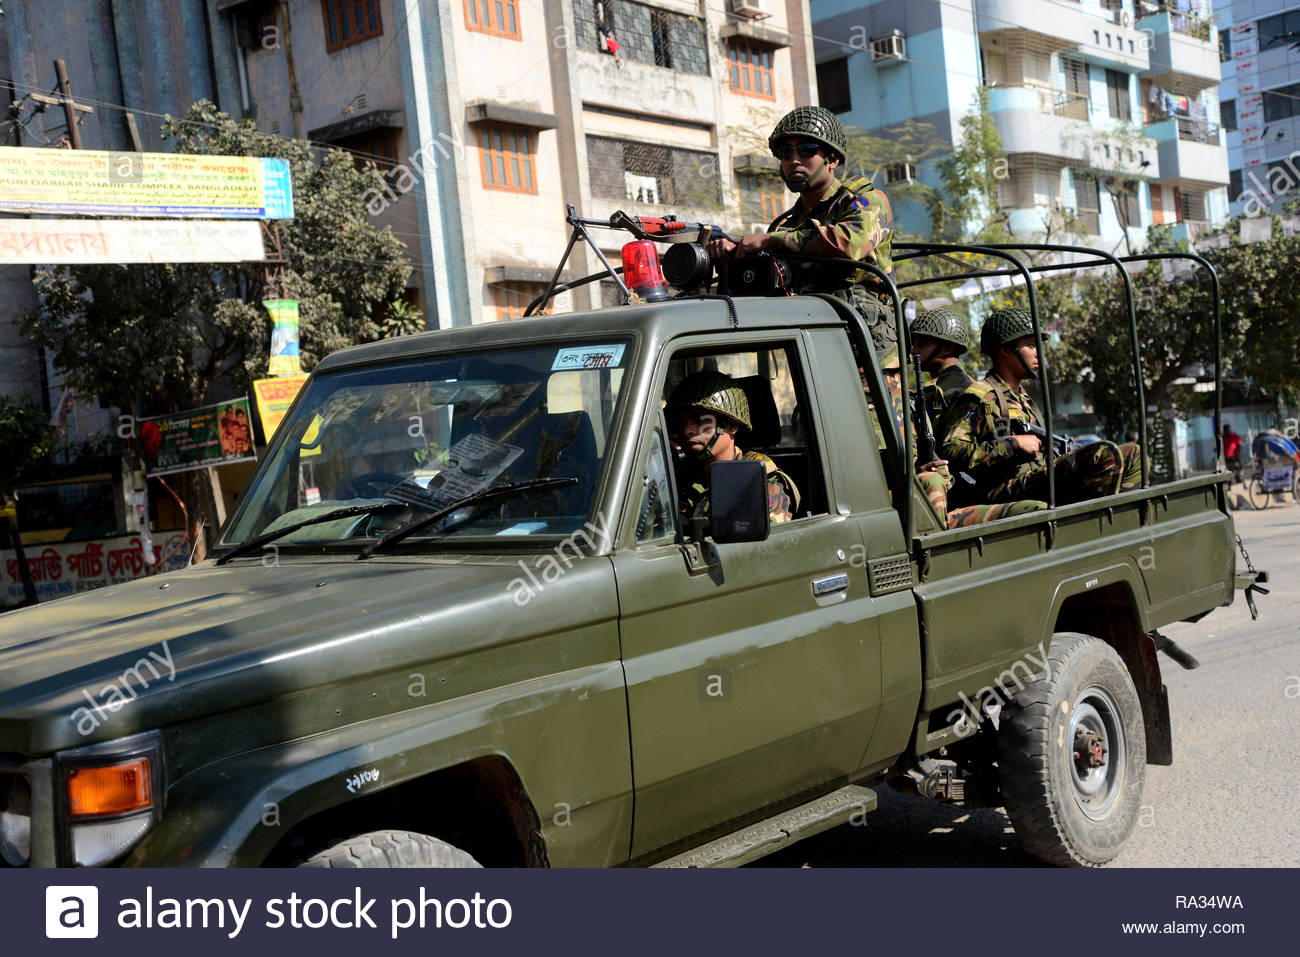army vehicle: (1, 236, 1282, 865)
rickshaw: (1248, 428, 1300, 513)
